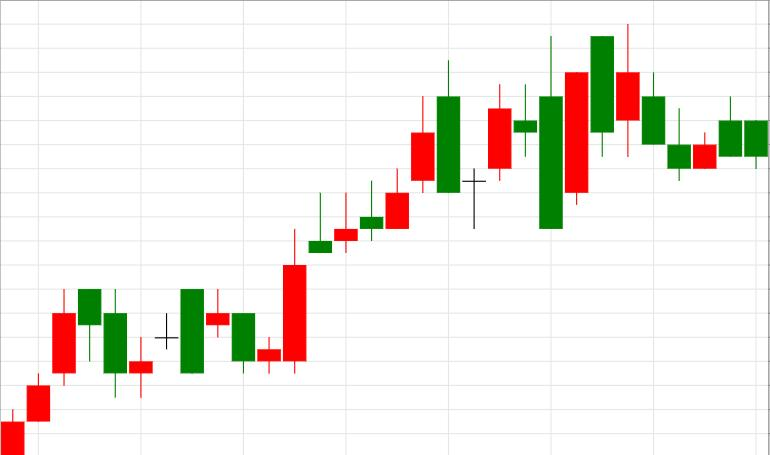bearish_engulfing_fall: (257, 61, 459, 374)
